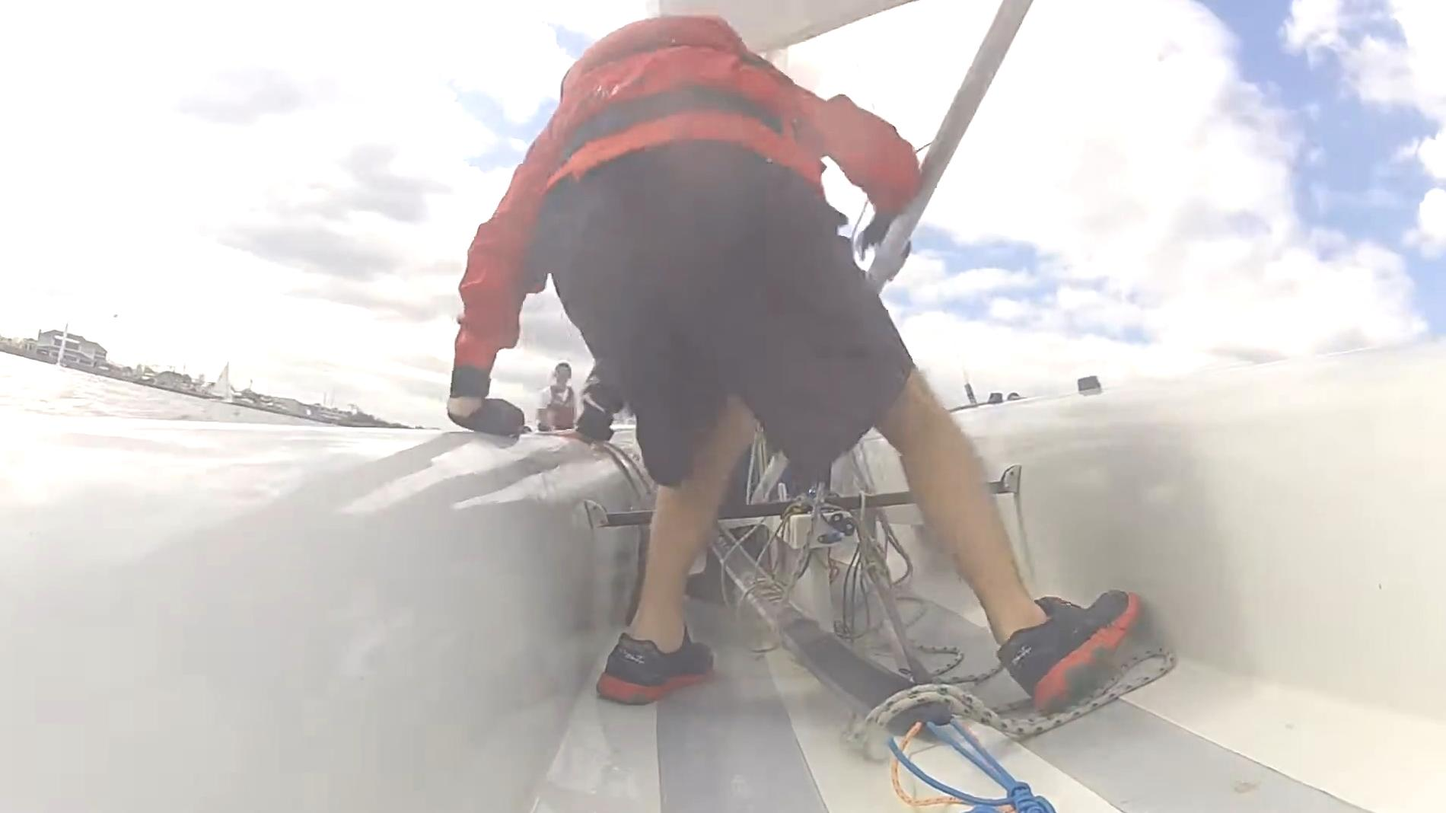land: (0, 328, 374, 429)
person: (447, 13, 1141, 703)
sea: (0, 352, 326, 427)
sky: (0, 0, 1009, 432), (883, 0, 1446, 410), (493, 294, 595, 432)
